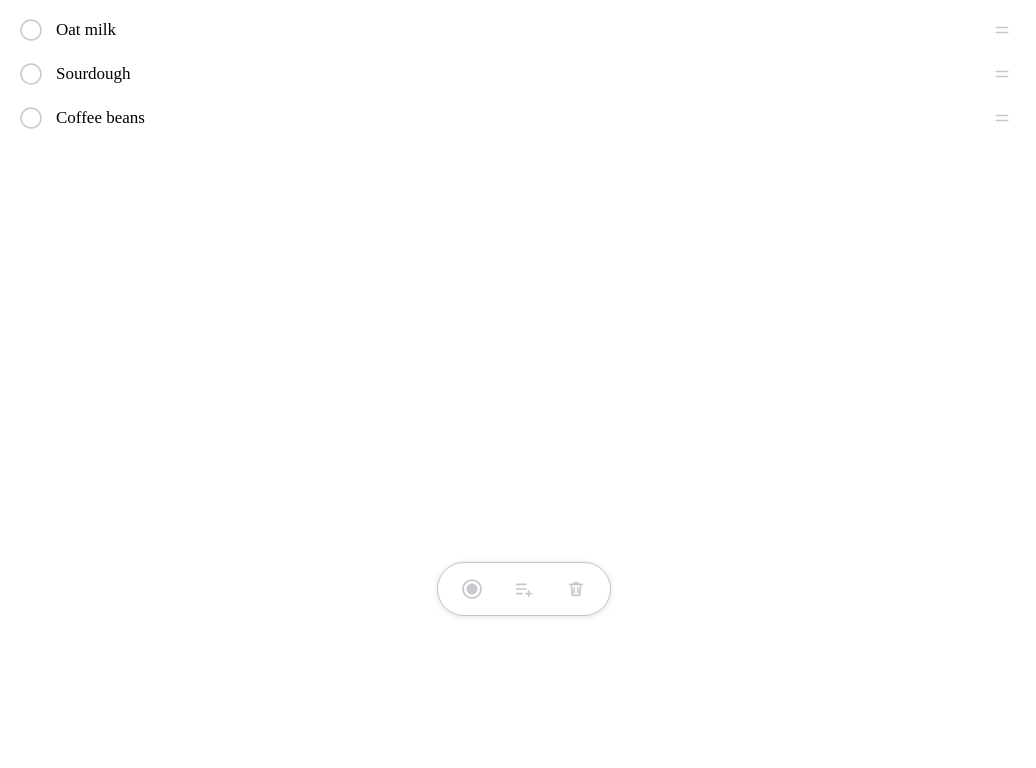
Test case: TaskList selection mode (Unit) › deletes every selected task, but only after the action is confirmed
Later steps or results of the test are not shown.
Click the button "Oat milk": (86, 30) [56,8,940,52]
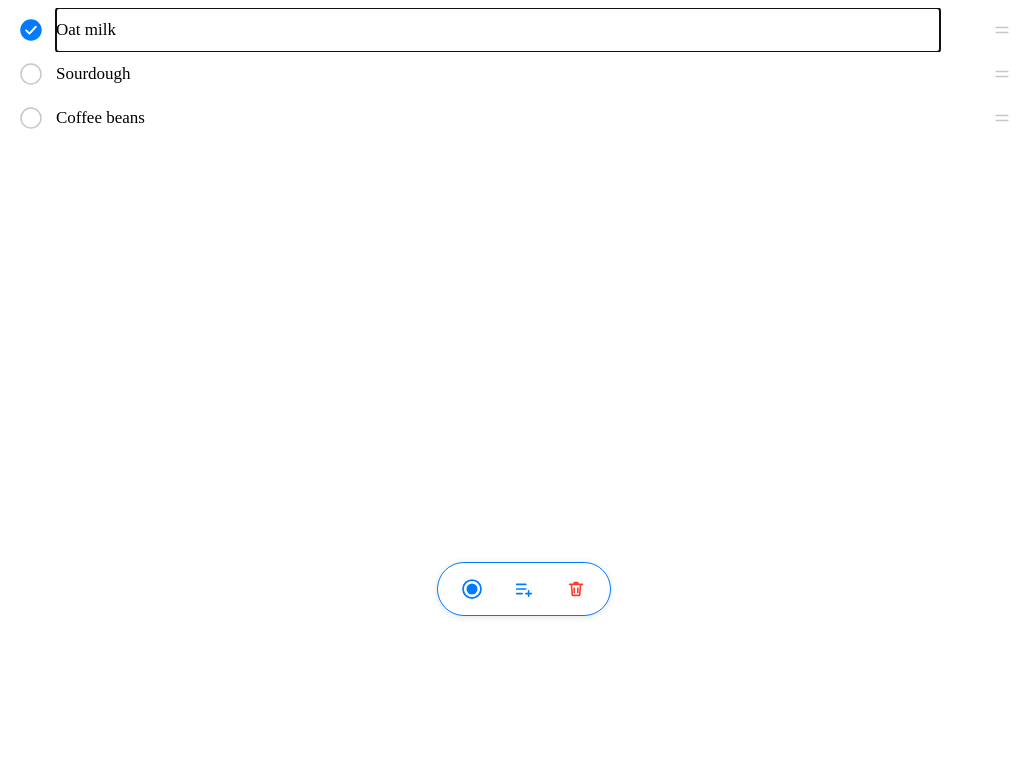
Click the button "Coffee beans": (100, 118) [56,96,940,140]
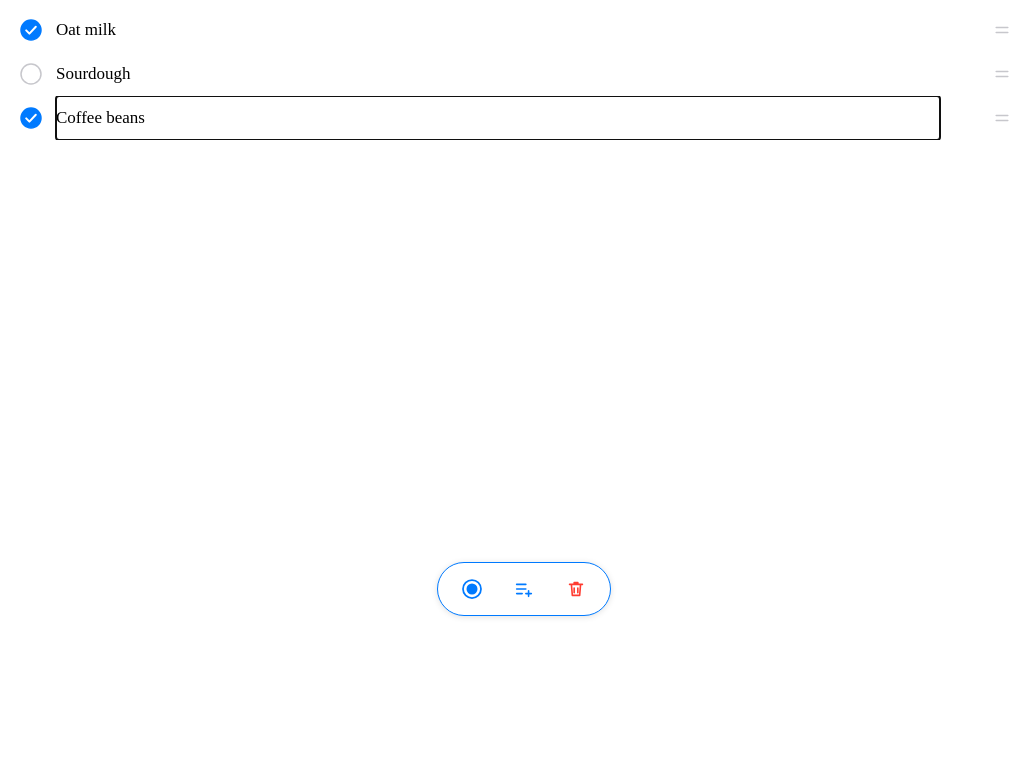
Click the button named "Delete selected tasks": (576, 589) [554,567,598,611]
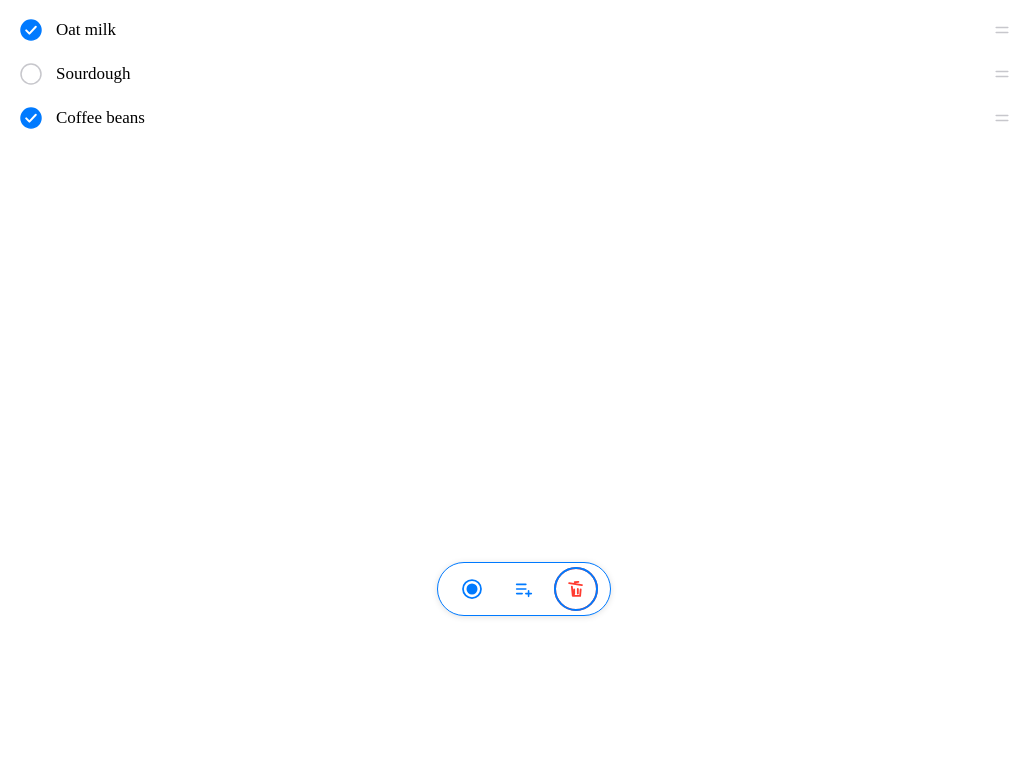
Check: the button named "Confirm deleting 2 tasks" has attribute data-armed="true", box [554,567,598,611]
